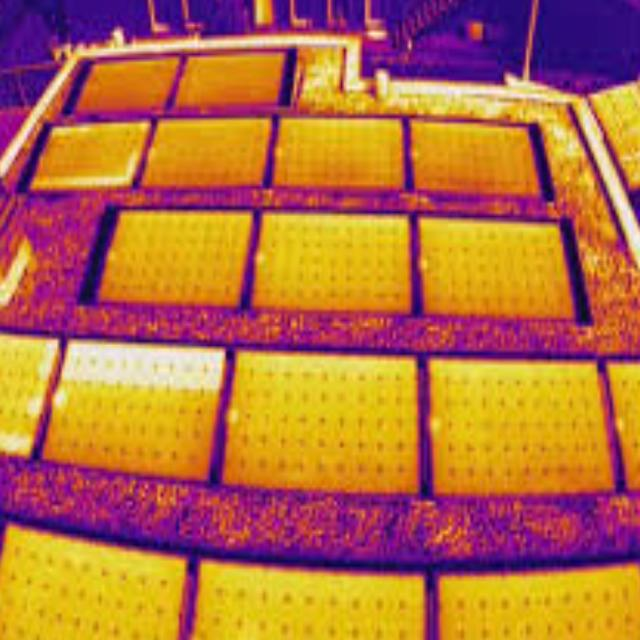hotspot group: (58, 341, 226, 388), (51, 385, 75, 422)
panel with hotspots: (32, 334, 237, 487)
